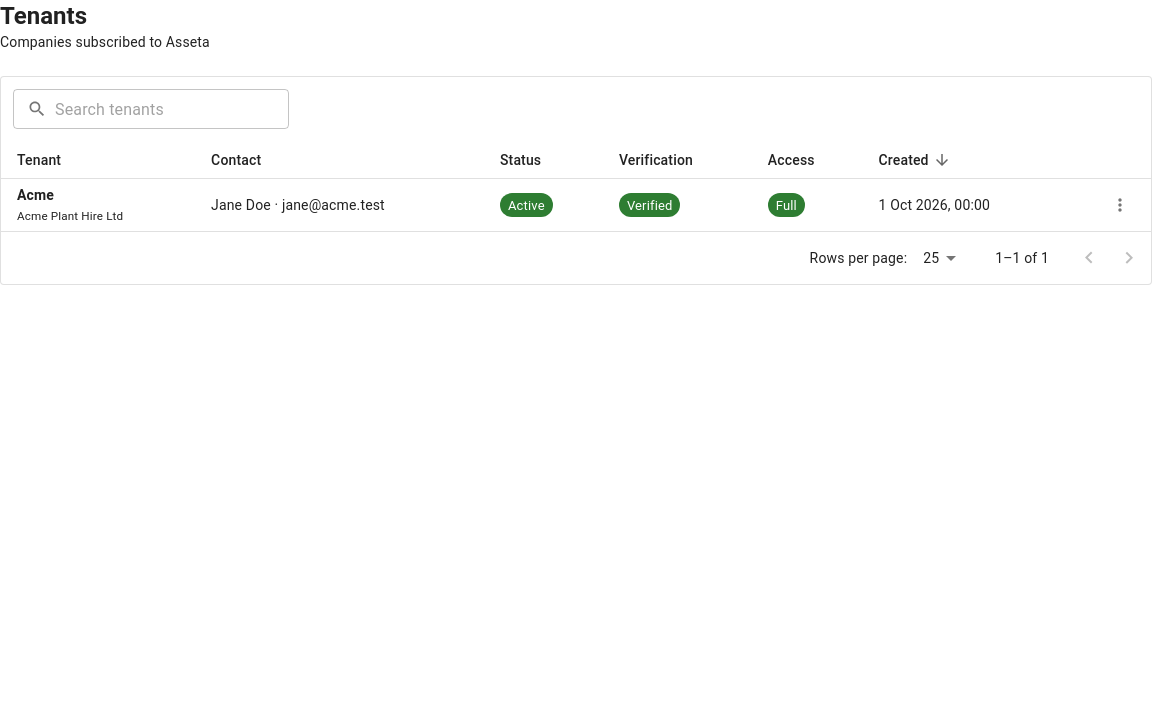
tenant list row actions › locks the registration number once verified
This screenshot has width=1152, height=720.
Click the button named "Actions for Acme" at {"x": 1120, "y": 205}, box [1105,190,1135,220]
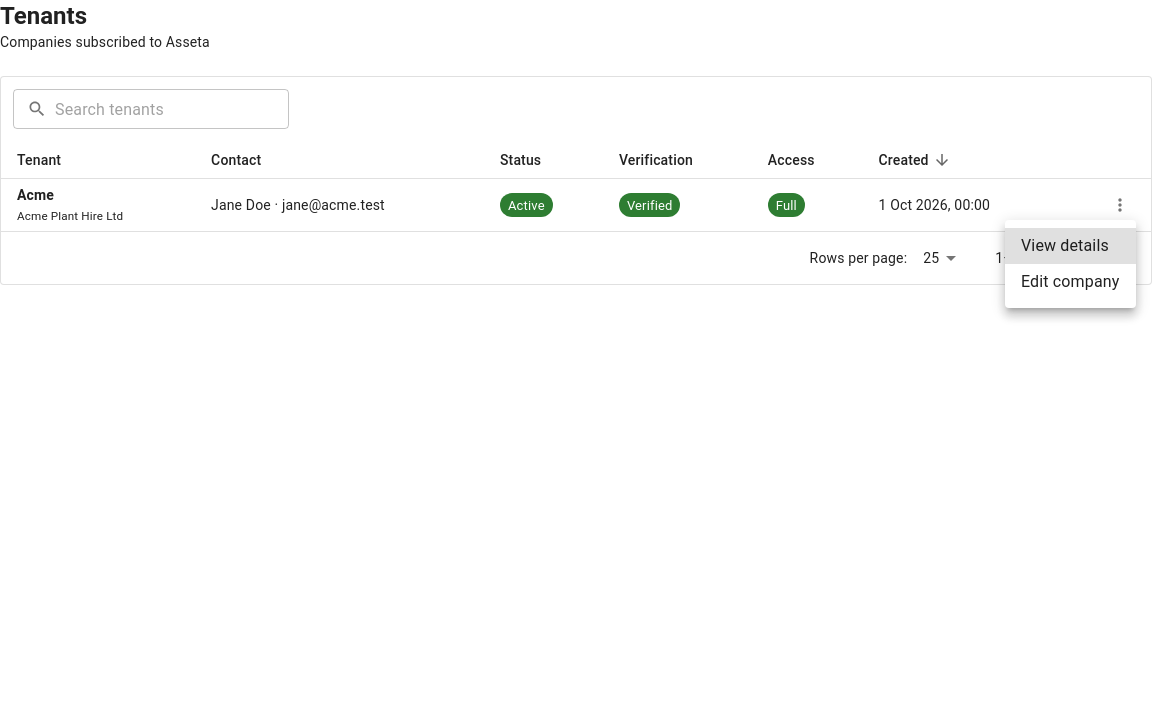
Click the menu item "Edit company" at {"x": 1070, "y": 282}, box [1021,272,1120,291]
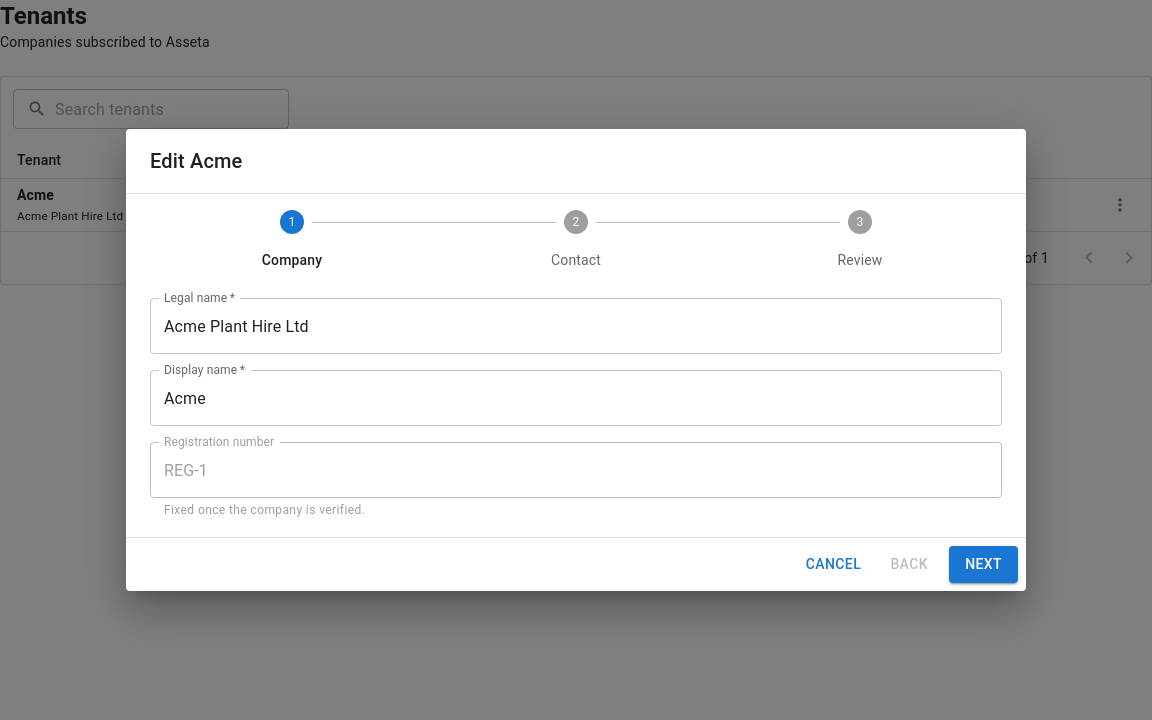
Result: the field labelled "Registration number" is disabled at [150,442,1002,498]
Result: the text "Fixed once the company is verified." is shown at [164,503,365,517]
